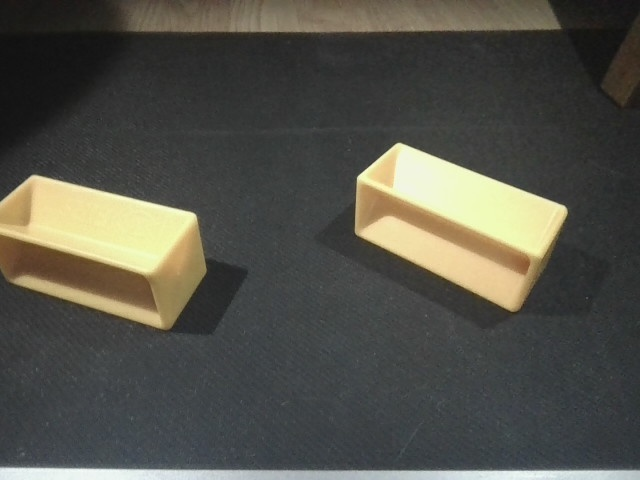YellowSample: (346, 139, 571, 317), (1, 172, 210, 335)
